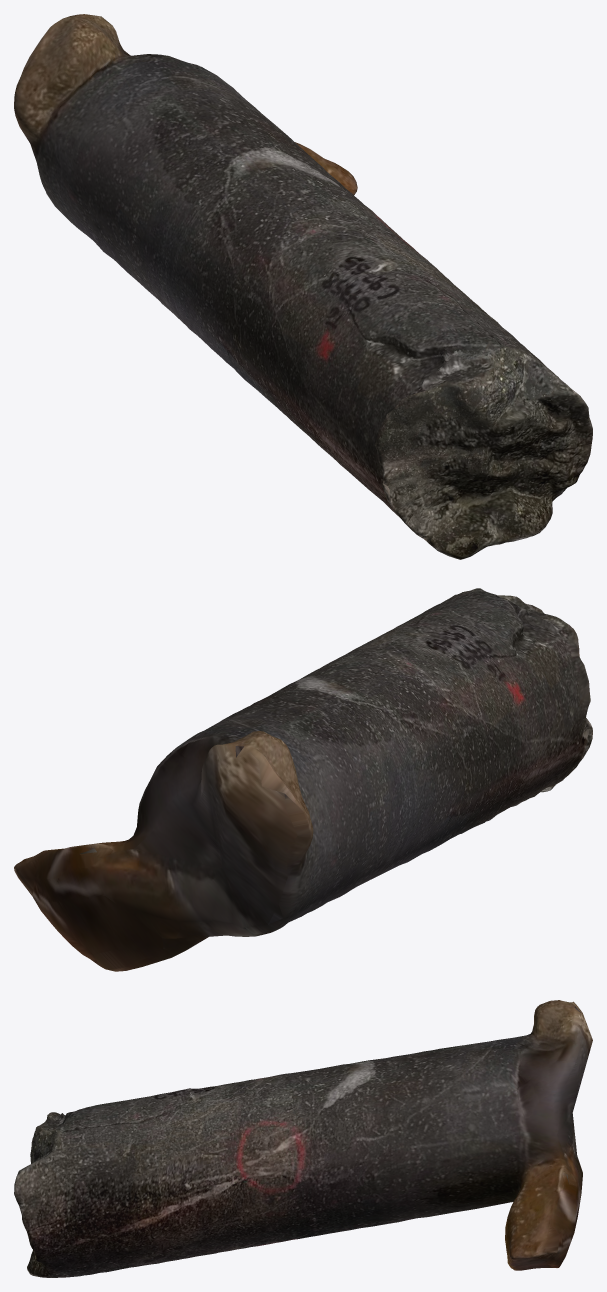
The model's file is PECLD07758 T6.glb.
3 renders of one model, top to bottom at view 1: azimuth 30°, elevation 25°; view 2: azimuth 150°, elevation 25°; view 3: azimuth 270°, elevation 25°, orthographic. The views are drawn at different scales.
Parts seen in each view (by area): view 1: baked_mesh; view 2: baked_mesh; view 3: baked_mesh.
Part boxes in pixels (x1,y1,x2,y2): baked_mesh: (14,14,592,559); baked_mesh: (14,588,592,971); baked_mesh: (14,1000,592,1277).
Bounding box in the file's own units: 0.272 × 0.2561 × 0.5577.
Materials: 1 (1 with a texture image).
